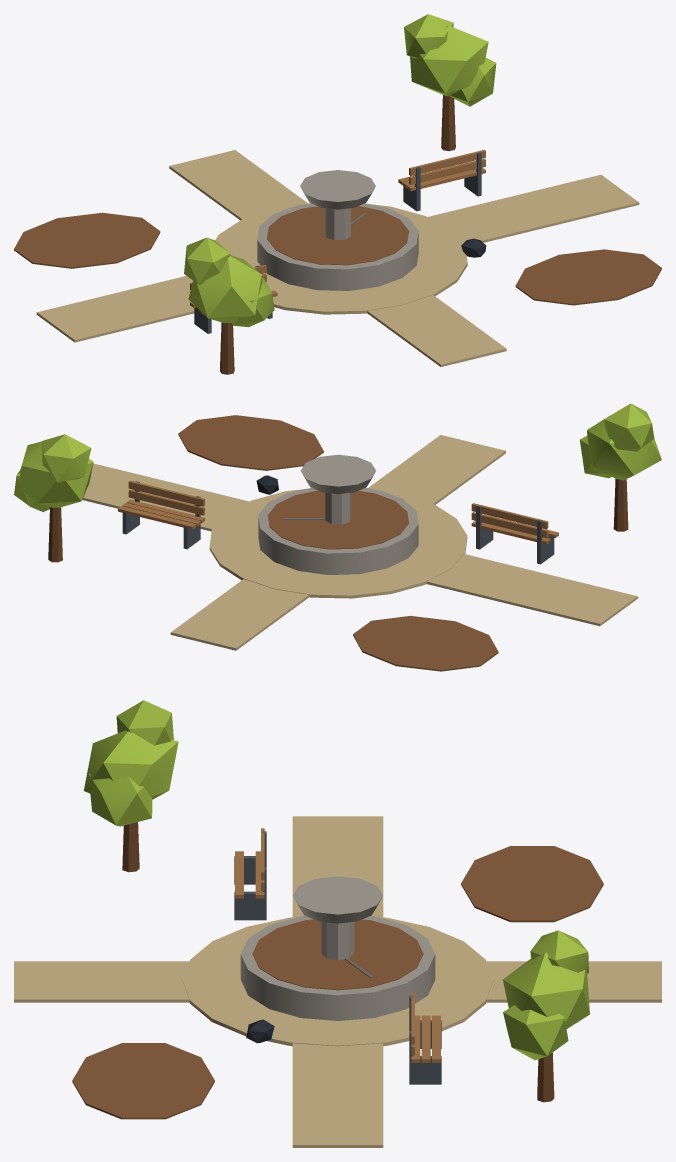
The model's file is park_broken.gltf.
3 renders of one model, top to bottom at view 1: azimuth 30°, elevation 25°; view 2: azimuth 150°, elevation 25°; view 3: azimuth 270°, elevation 25°, orthographic. The views are drawn at different scales.
Visible parts, largest first — view 1: park_broken; view 2: park_broken; view 3: park_broken.
Part boxes in pixels (box(x1,y1,x2,y2)): park_broken: box(14, 14, 661, 374); park_broken: box(14, 403, 661, 671); park_broken: box(14, 700, 661, 1147).
Bounding box in the file's own units: 12 × 2.72 × 10.
